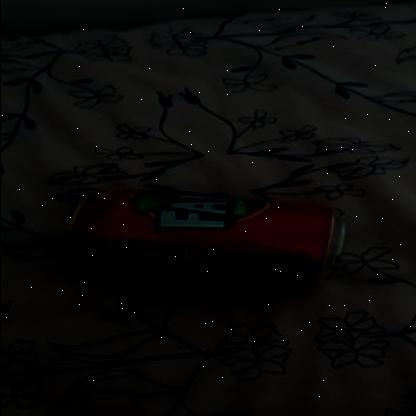Can: (64, 187, 346, 293)
